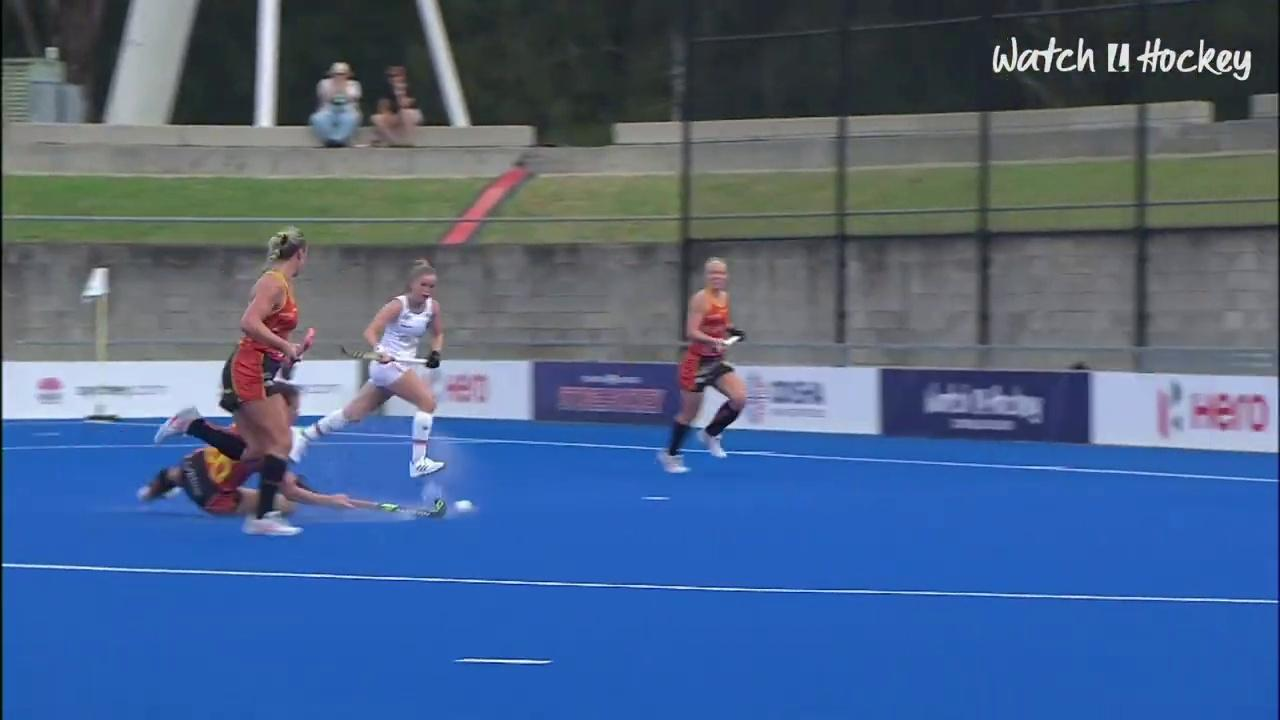ball: (442, 479, 489, 524)
